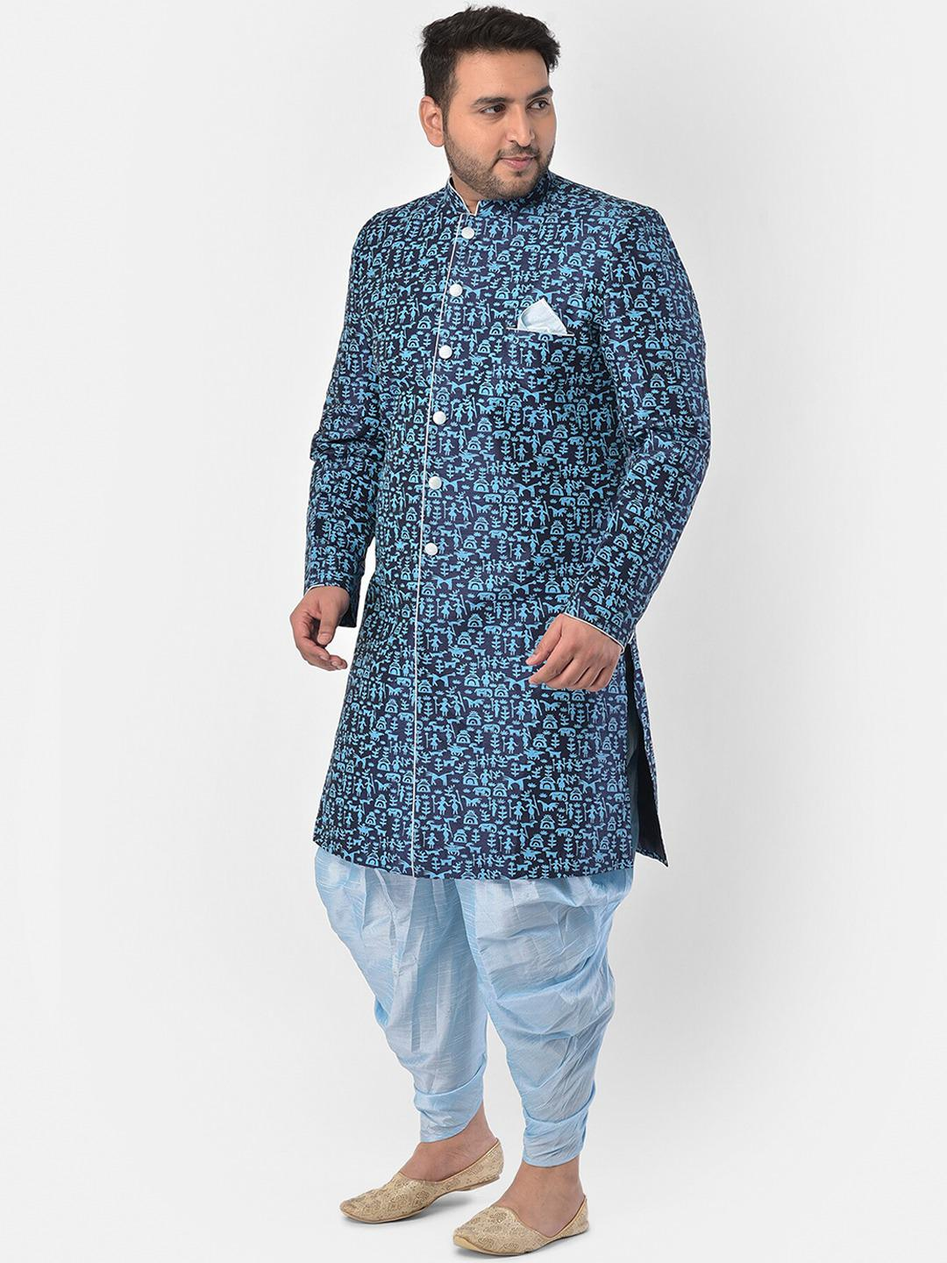Desgin sherwani: (300, 163, 714, 883)
